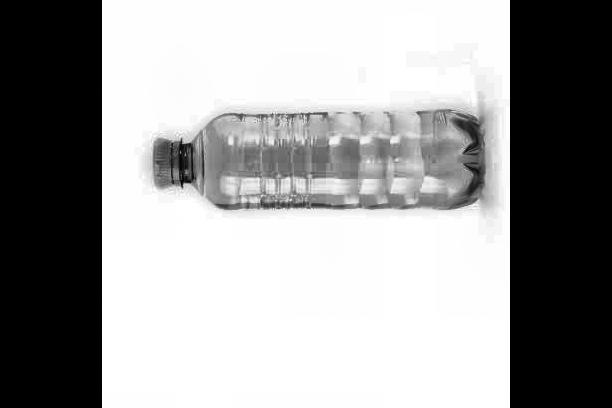waterbottle: (142, 84, 498, 252)
